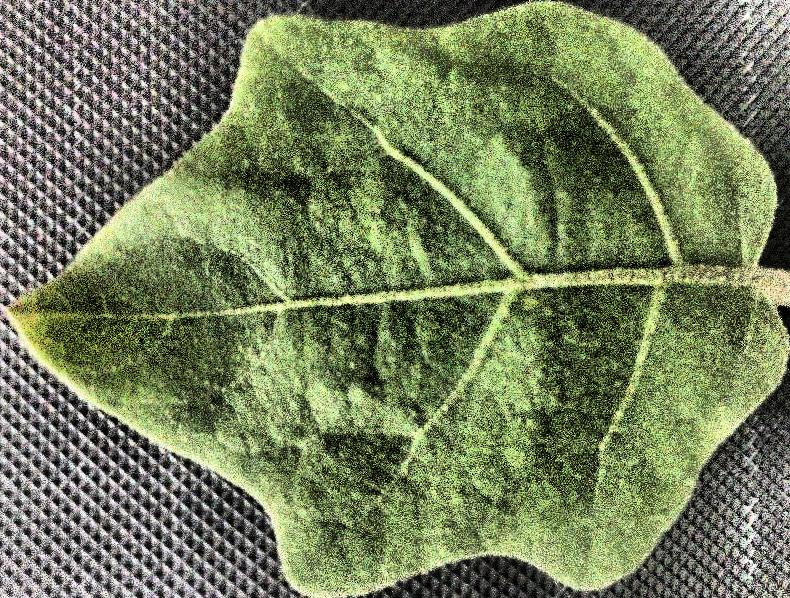HEALTHY: (1, 0, 790, 598)
